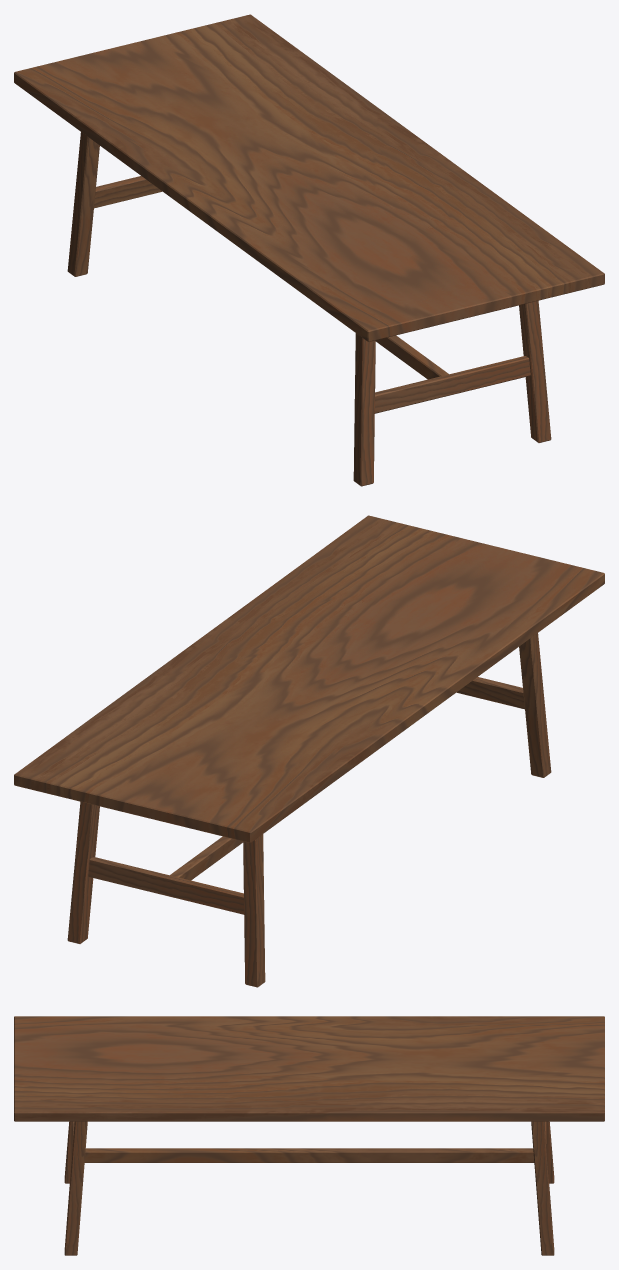
File: kitchen_table_1.glb
The picture shows the model from 3 angles, top to bottom: view 1: azimuth 30°, elevation 25°; view 2: azimuth 150°, elevation 25°; view 3: azimuth 270°, elevation 25°; orthographic projection. The views are drawn at different scales.
Parts seen in each view (by area): view 1: Cube.033; view 2: Cube.033; view 3: Cube.033.
Boxes of the visible parts, x1=… form: Cube.033: x1=14, y1=14, x2=604, y2=486; Cube.033: x1=14, y1=515, x2=604, y2=987; Cube.033: x1=14, y1=1016, x2=604, y2=1255.
Size of the model in its own units: 0.9681 by 0.7158 by 2.5.
1 material, 1 textured.
